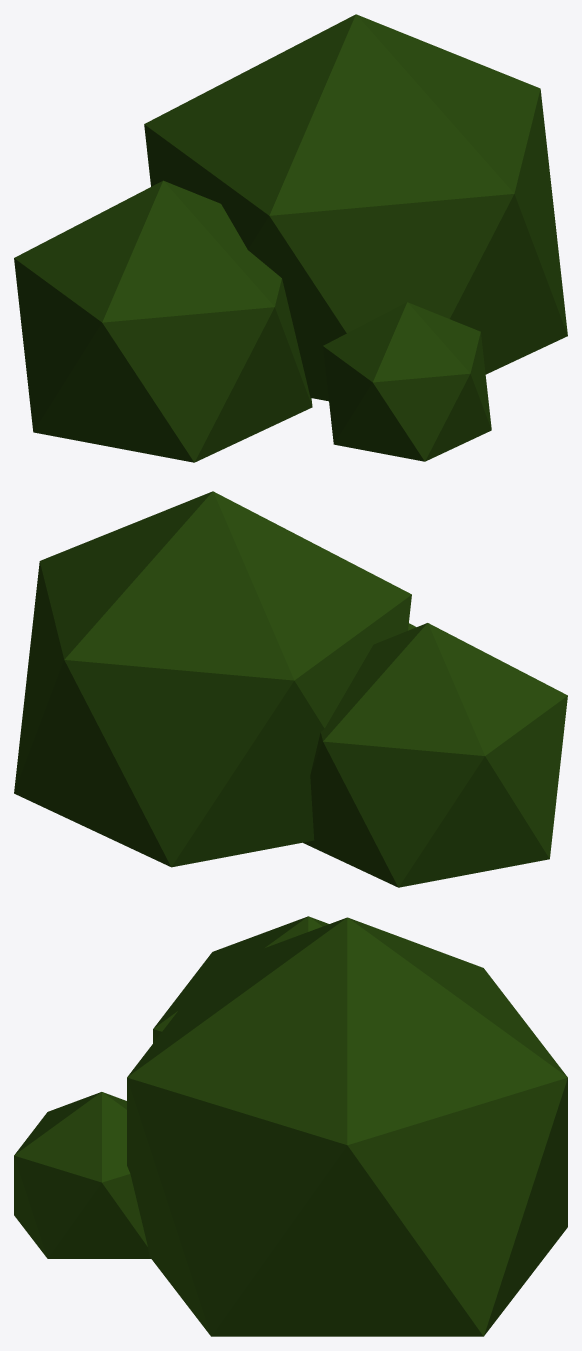
Rendered from Bush1.fbx.
The picture shows the model from 3 angles, top to bottom: view 1: azimuth 30°, elevation 25°; view 2: azimuth 150°, elevation 25°; view 3: azimuth 270°, elevation 25°; orthographic projection. The views are drawn at different scales.
Parts seen in each view (by area): view 1: Bush2; view 2: Bush2; view 3: Bush2.
Part boxes in pixels (x1,y1,x2,y2): Bush2: [14, 14, 567, 462]; Bush2: [14, 491, 567, 887]; Bush2: [14, 916, 567, 1336].
Size of the model in its own units: 145 by 87.61 by 122.
